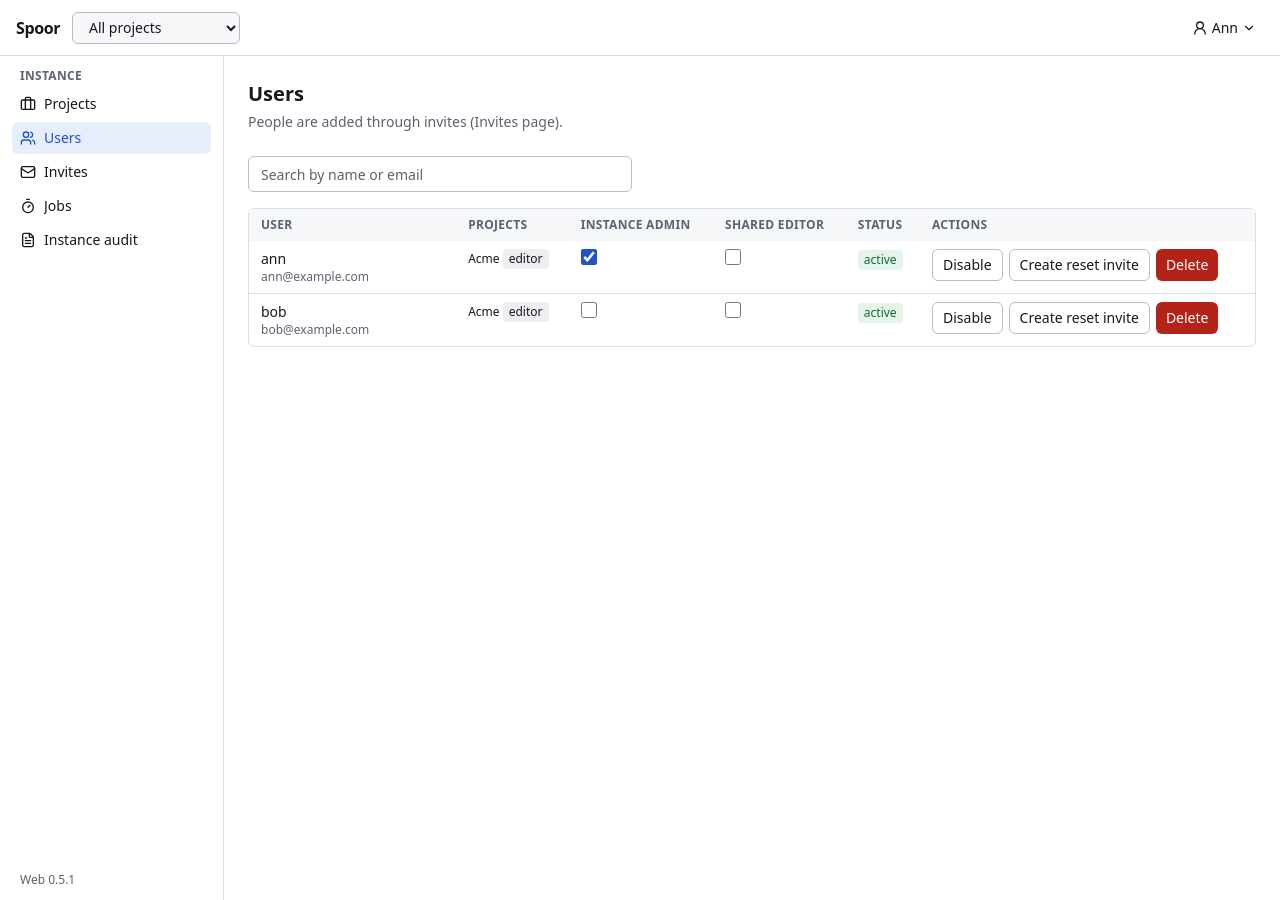
Scenario: AdminUsersPage › shows last_admin inline when demoting the last instance admin
What coordinates should you click on to do the following:
click the checkbox named "Instance admin: ann@example.com"
I would click on:
 (589, 257)
Its box is [581,249,597,265].
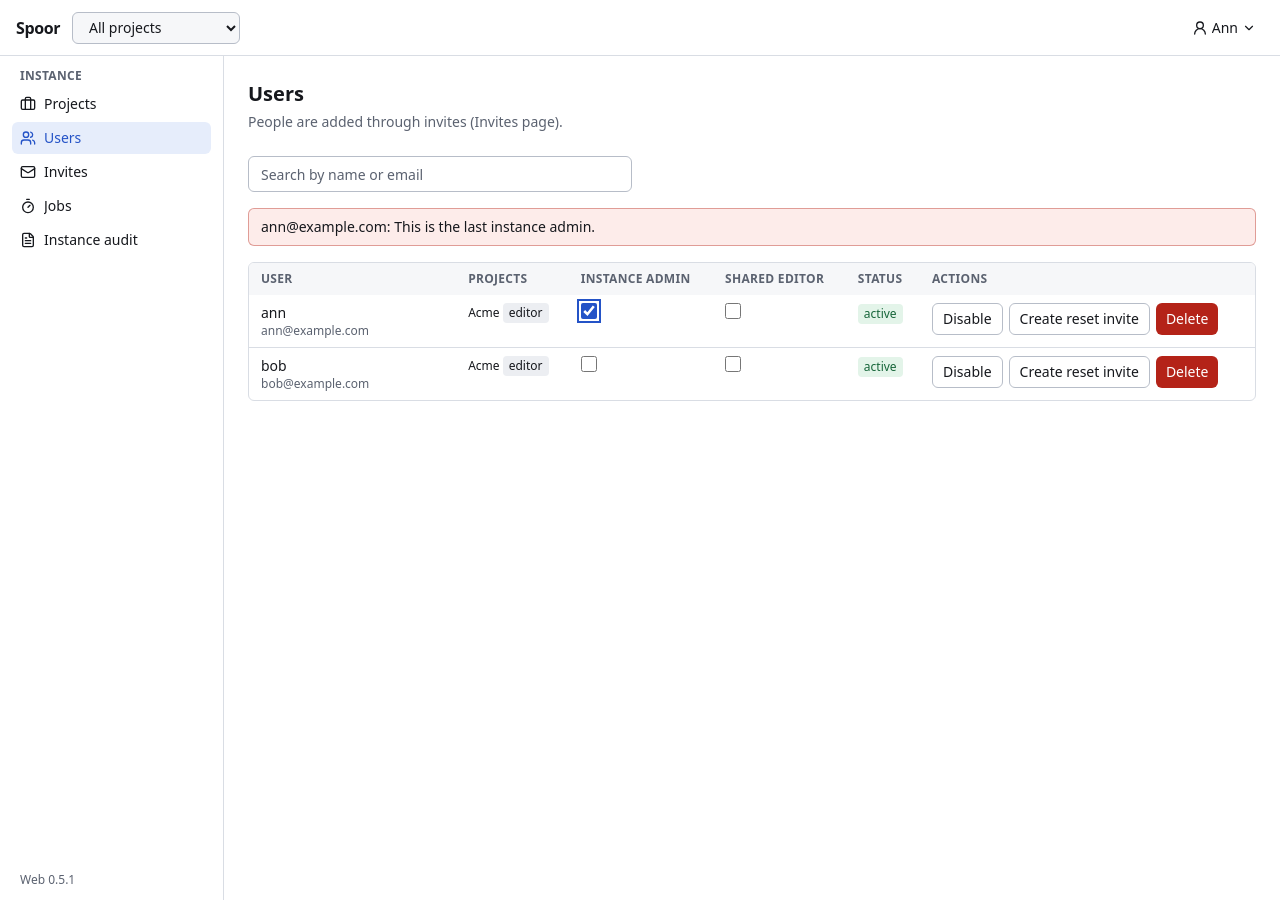
Result: the text "ann@example.com: This is the last instance admin." is shown at [261,217,595,236]
